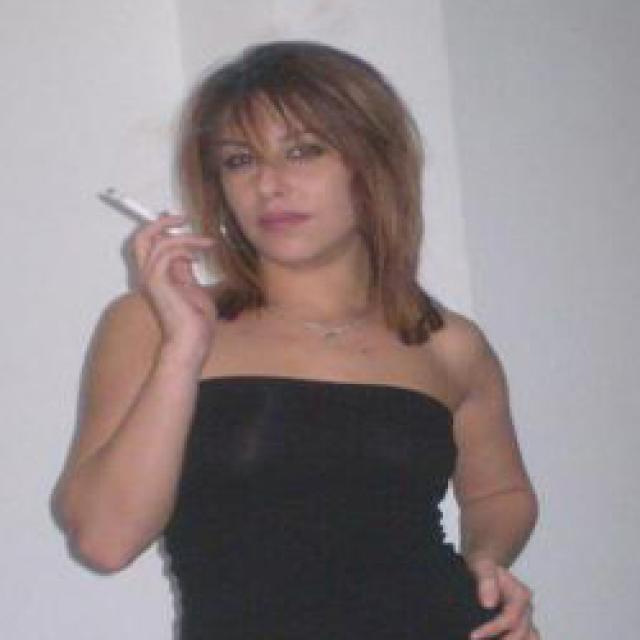Smooking: (97, 179, 189, 246)
